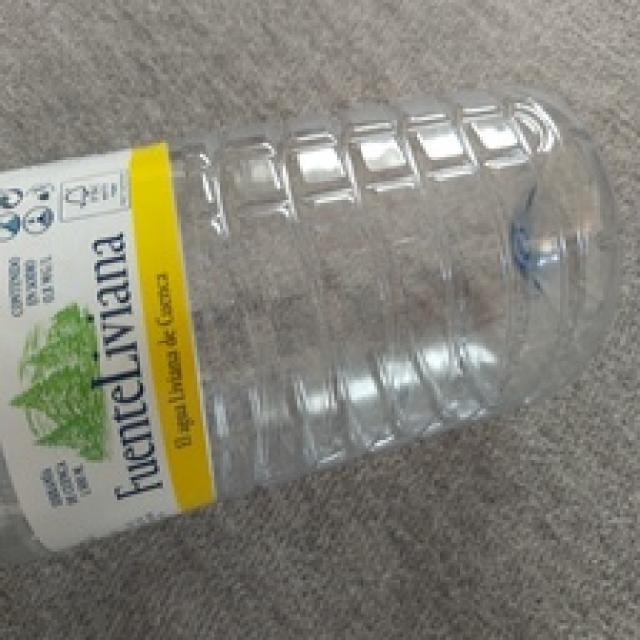Plastic: (0, 86, 614, 569)
